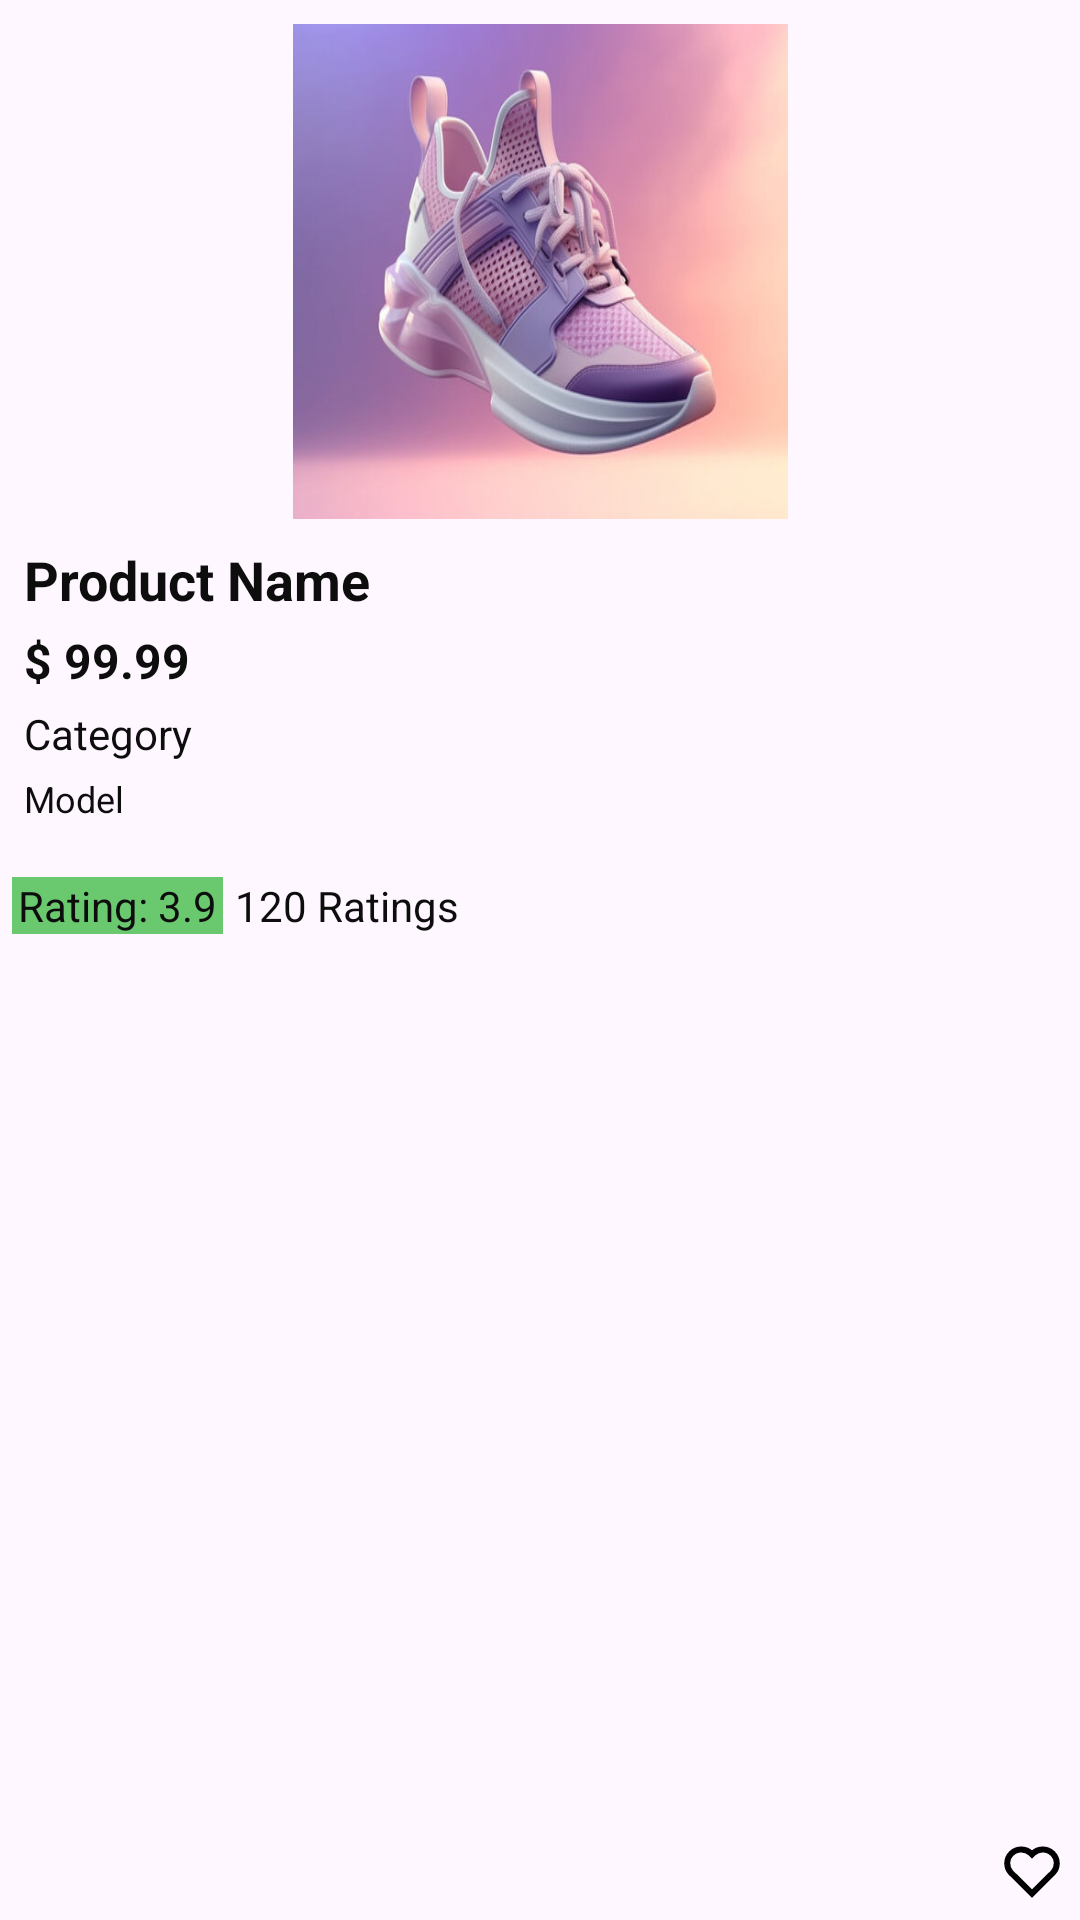

Where icons sit on this 1080x1920 app screen, as box(x1, y1, x2, y2):
favorite: box(1004, 1846, 1060, 1898)
